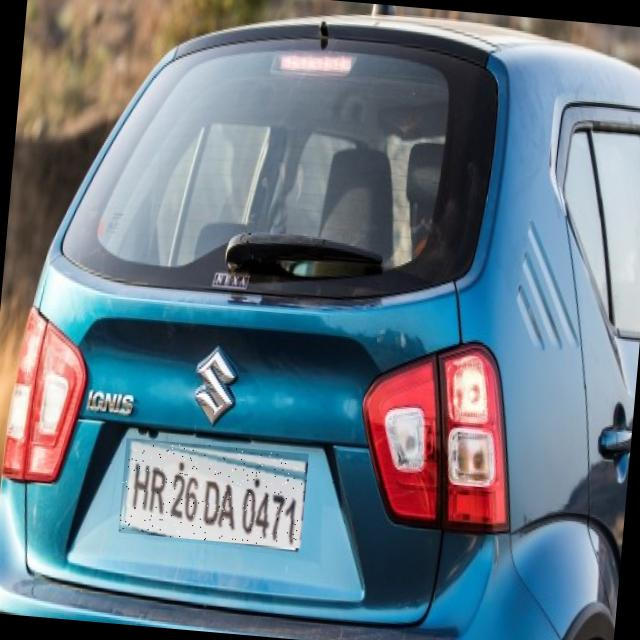Plate: (119, 439, 310, 550)
